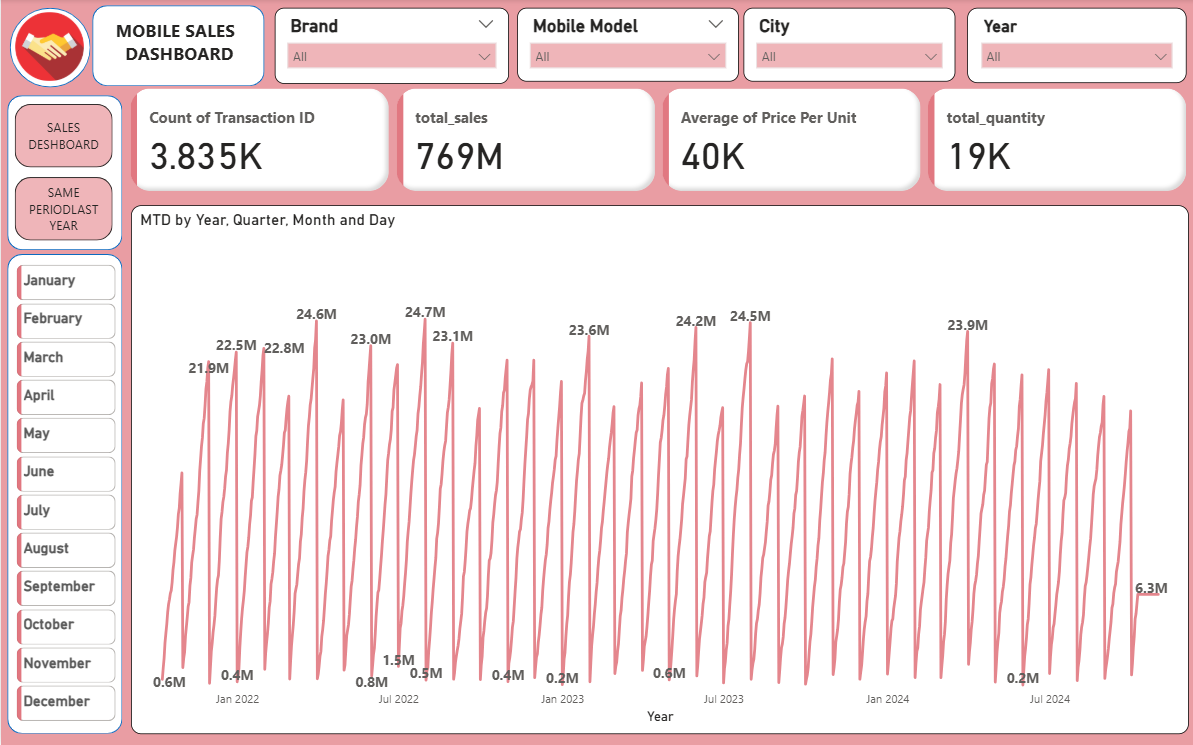

Layout of this report page (visuals, bound fields, positions):
{"tool":"powerbi","page":{"name":"MTD","canvas":[1280,800],"ordinal":1},"visuals":[{"type":"shape","box":[10.1,8.8,86.7,85.5],"z":0},{"type":"image","box":[10.1,10.1,88,82.9],"z":1000},{"type":"shape","box":[6.9,273.1,123.5,514.6],"z":2000},{"type":"shape","box":[6.9,102.9,123.5,166],"z":3000},{"type":"advancedSlicerVisual","fields":{"Values":["Query1.costom_date.Variation.Date Hierarchy.Month"]},"box":[12.3,279.9,116.6,506.3],"z":4000},{"type":"shape","box":[98,6.3,184.7,86.7],"z":5000},{"type":"cardVisual","fields":{"Data":["CountNonNull(Mobile Sales Data.Transaction ID)","Mobile Sales Data.total_sales","Avg(Mobile Sales Data.Price Per Unit)","Mobile Sales Data.total_quantity"]},"box":[134.5,71.4,1144.4,160.5],"z":6000},{"type":"slicer","fields":{"Values":["Mobile Sales Data.Mobile Model"]},"box":[554.2,8.8,237.5,79.2],"z":7000},{"type":"slicer","fields":{"Values":["Mobile Sales Data.City"]},"box":[796.8,10.1,227.5,79.2],"z":8000},{"type":"slicer","fields":{"Values":["Query1.costom_date.Variation.Date Hierarchy.Year"]},"box":[1036.8,8.8,235,80.4],"z":9000},{"type":"slicer","fields":{"Values":["Mobile Sales Data.Brand"]},"box":[294.1,8.8,251.3,81.7],"z":10000},{"type":"textbox","box":[118.1,16.3,152.1,61.6],"z":11000},{"type":"lineChart","fields":{"Category":["Query1.costom_date.Variation.Date Hierarchy.Year","Query1.costom_date.Variation.Date Hierarchy.Quarter","Query1.costom_date.Variation.Date Hierarchy.Month","Query1.costom_date.Variation.Date Hierarchy.Day"],"Y":["Mobile Sales Data.MTD"]},"box":[139.4,221.2,1134.1,567],"z":12000},{"type":"pageNavigator","box":[14.7,112.6,105.9,147.5],"z":13000}]}

Visuals, with their boxes in screenshot pixels (x1, y1, x2, y2), scaled from the page's 1280x800 canvas onto the 1193x745 screenshot:
shape: (x1=9, y1=8, x2=90, y2=88)
image: (x1=9, y1=9, x2=91, y2=87)
shape: (x1=6, y1=254, x2=122, y2=734)
shape: (x1=6, y1=96, x2=122, y2=250)
advancedSlicerVisual - Query1.costom_date.Variation.Date Hierarchy.Month: (x1=11, y1=261, x2=120, y2=732)
shape: (x1=91, y1=6, x2=263, y2=87)
cardVisual - CountNonNull(Mobile Sales Data.Transaction ID) x Mobile Sales Data.total_sales: (x1=125, y1=66, x2=1192, y2=216)
slicer - Mobile Sales Data.Mobile Model: (x1=517, y1=8, x2=738, y2=82)
slicer - Mobile Sales Data.City: (x1=743, y1=9, x2=955, y2=83)
slicer - Query1.costom_date.Variation.Date Hierarchy.Year: (x1=966, y1=8, x2=1185, y2=83)
slicer - Mobile Sales Data.Brand: (x1=274, y1=8, x2=508, y2=84)
textbox: (x1=110, y1=15, x2=252, y2=73)
lineChart - Query1.costom_date.Variation.Date Hierarchy.Year x Query1.costom_date.Variation.Date Hierarchy.Quarter: (x1=130, y1=206, x2=1187, y2=734)
pageNavigator: (x1=14, y1=105, x2=112, y2=242)
